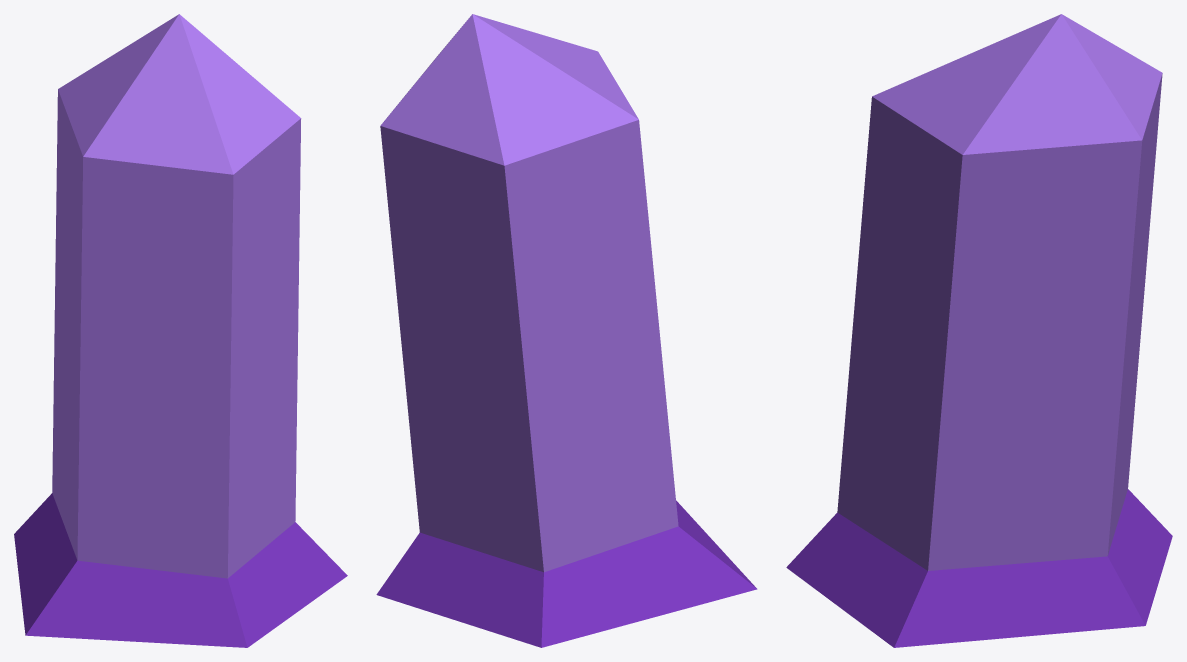
File: crystal_003_grp.fbx
3 views of the same model, side by side, from view 1: azimuth 30°, elevation 25°; view 2: azimuth 150°, elevation 25°; view 3: azimuth 270°, elevation 25° (orthographic). The views are drawn at different scales.
Parts seen in each view (by area): view 1: crystal_003_grp; view 2: crystal_003_grp; view 3: crystal_003_grp.
Part boxes in pixels (box(x1,y1,x2,y2)): crystal_003_grp: box(14, 14, 347, 647); crystal_003_grp: box(376, 14, 757, 647); crystal_003_grp: box(786, 14, 1172, 647).
Bounding box in the file's own units: 30 × 50 × 30.
